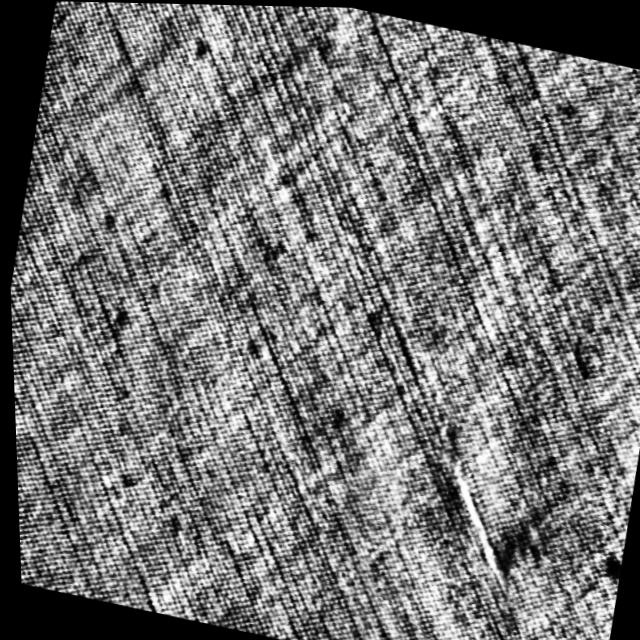Stitch: (424, 441, 539, 595)
